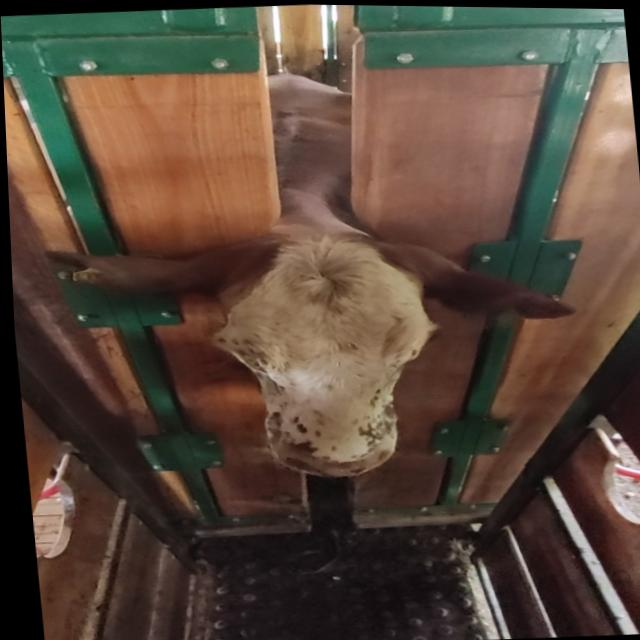cowFace: (199, 221, 441, 482)
